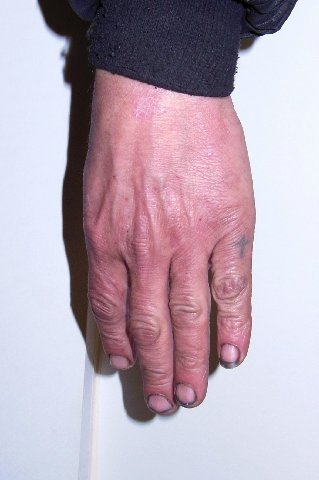tatu9_krest: (228, 233, 252, 257)
